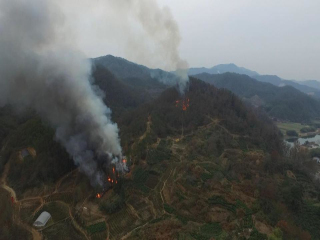smoke: (1, 6, 193, 194)
